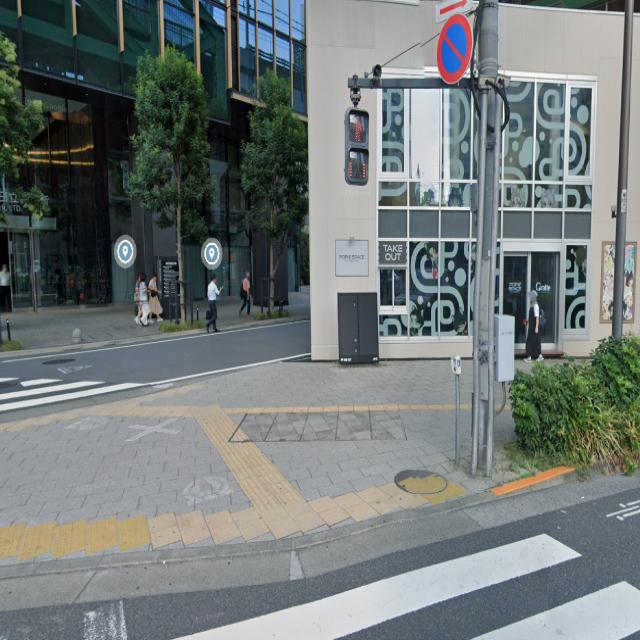traffic-light: (338, 104, 379, 188)
